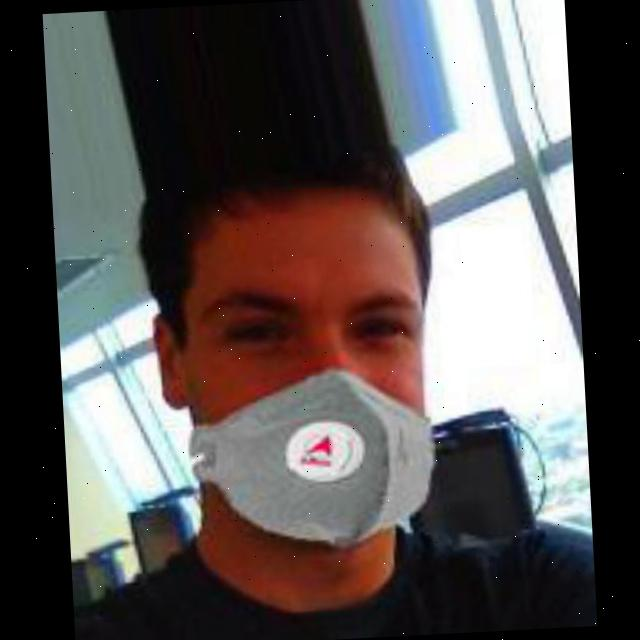suspicion: (77, 113, 460, 580)
